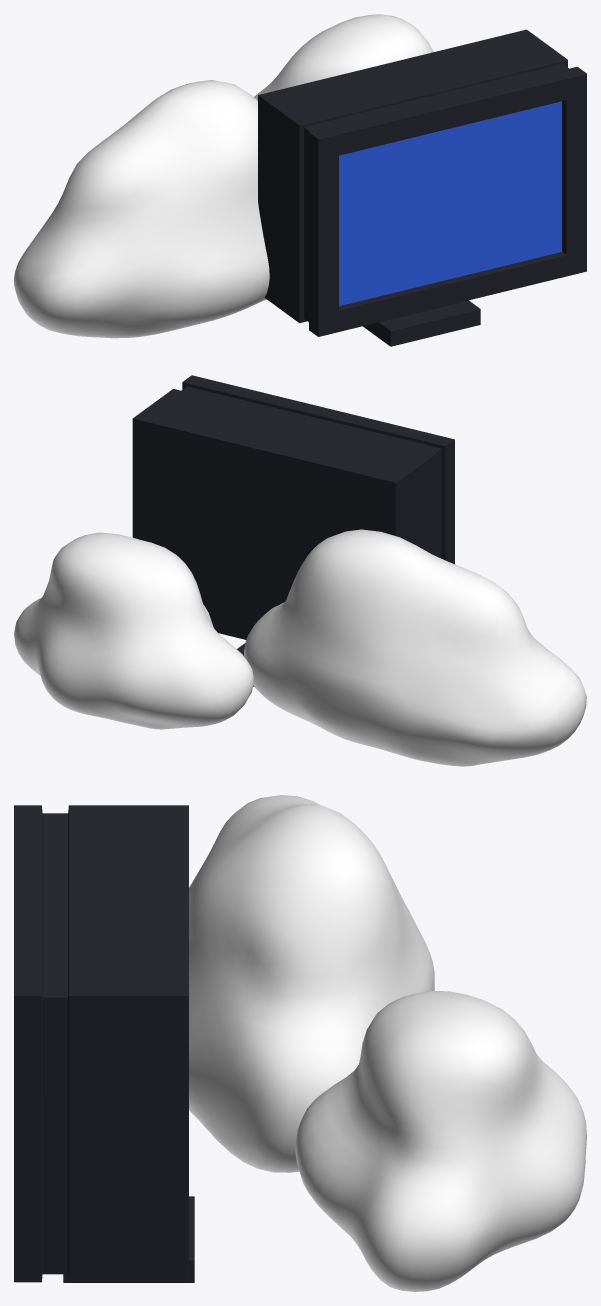
3 views of the same model, one above another, from view 1: azimuth 30°, elevation 25°; view 2: azimuth 150°, elevation 25°; view 3: azimuth 270°, elevation 25° (orthographic). The views are drawn at different scales.
Parts seen in each view (by area): view 1: 机身, 云1_1_1, 屏幕, 云1_1; view 2: 云1_1_1, 机身, 云1_1; view 3: 机身, 云1_1_1, 云1_1.
Part boxes in pixels (bbox=[...]): 机身: bbox=[258, 29, 586, 346]; 云1_1_1: bbox=[14, 80, 269, 338]; 屏幕: bbox=[339, 101, 561, 305]; 云1_1: bbox=[254, 14, 433, 100]; 云1_1_1: bbox=[244, 529, 586, 766]; 机身: bbox=[132, 375, 454, 686]; 云1_1: bbox=[14, 532, 253, 729]; 机身: bbox=[14, 805, 194, 1282]; 云1_1_1: bbox=[189, 795, 434, 1172]; 云1_1: bbox=[295, 990, 586, 1291].
Size of the model in its own units: 381 by 172 by 254.
